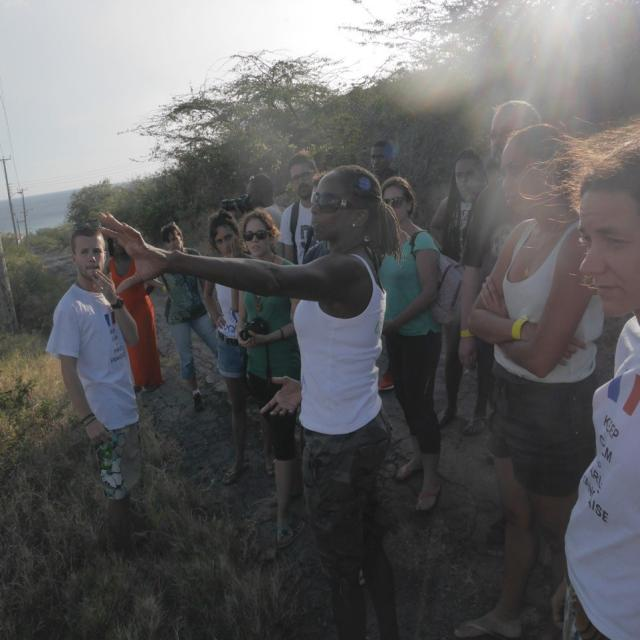body: (92, 163, 405, 640), (450, 119, 610, 640), (515, 115, 639, 640), (45, 224, 144, 556), (376, 174, 467, 516), (234, 207, 304, 551), (457, 100, 542, 372), (201, 207, 278, 484), (427, 147, 495, 437), (142, 220, 224, 413), (104, 234, 164, 390), (278, 149, 320, 265), (232, 173, 284, 258), (364, 137, 402, 196)
